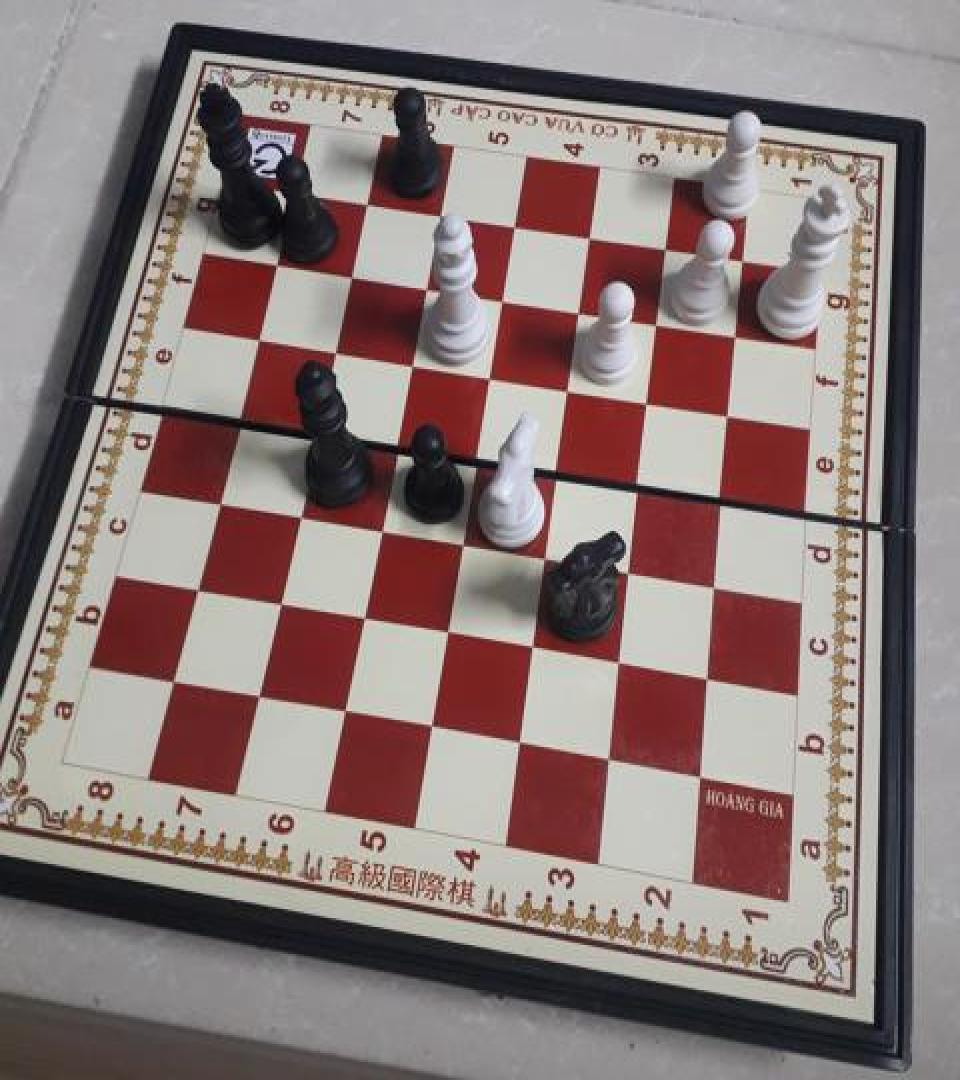xcorner: (280, 177, 310, 212), (161, 666, 191, 700), (332, 696, 362, 730), (419, 712, 449, 746), (507, 728, 537, 762), (595, 744, 625, 778), (684, 760, 714, 794), (183, 572, 213, 606), (266, 587, 296, 621), (350, 603, 380, 637), (435, 618, 465, 652), (520, 632, 550, 666), (606, 647, 636, 681), (692, 662, 722, 696), (205, 486, 235, 520), (286, 500, 316, 534), (367, 513, 397, 547), (450, 528, 480, 562), (532, 542, 562, 576), (616, 556, 646, 590), (700, 570, 730, 604), (304, 416, 334, 450), (383, 430, 413, 464), (464, 442, 494, 476), (544, 456, 574, 490), (626, 470, 656, 504), (708, 484, 738, 518), (244, 324, 274, 358), (321, 336, 351, 370), (399, 348, 429, 382), (477, 362, 507, 396), (556, 374, 586, 408), (635, 388, 665, 422), (715, 400, 745, 434), (262, 250, 292, 284), (337, 261, 367, 295), (413, 273, 443, 307), (489, 286, 519, 320), (566, 298, 596, 332), (721, 323, 751, 357), (353, 190, 383, 224), (427, 201, 457, 235), (501, 212, 531, 246), (576, 225, 606, 259), (652, 236, 682, 270), (728, 248, 758, 282), (246, 681, 276, 714), (225, 403, 255, 436), (643, 311, 673, 344)
